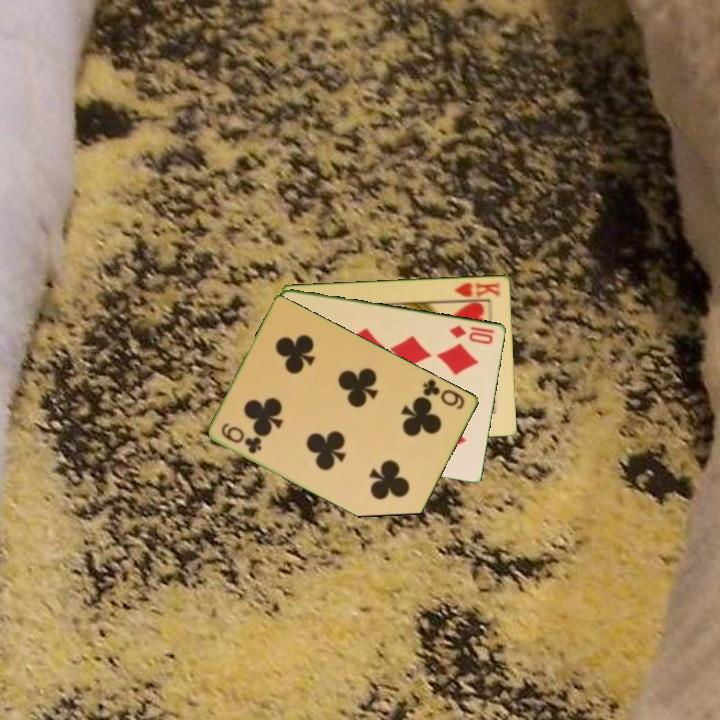10d: (446, 321, 497, 347)
6c: (420, 375, 468, 413), (218, 419, 265, 457)
Kh: (448, 278, 503, 303)
